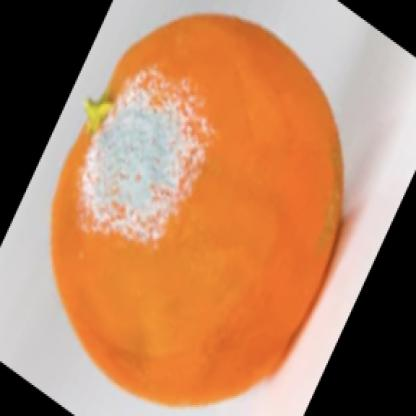rotten: (53, 15, 345, 404)
